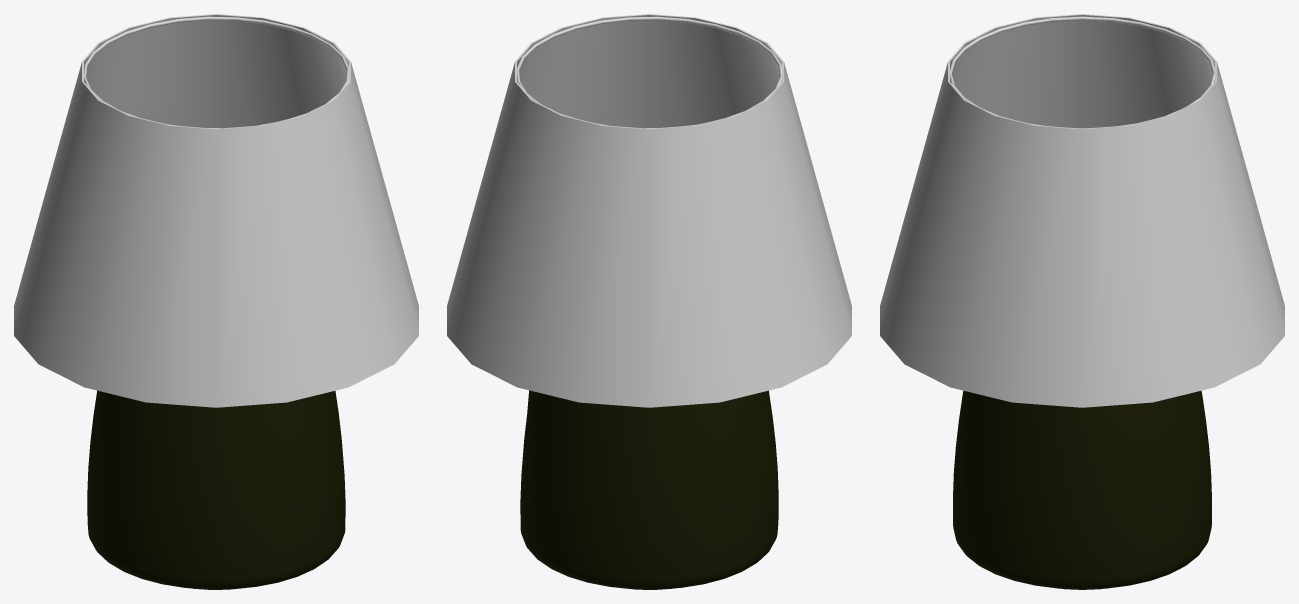
The model's file is IKEA-Diabas_Table_Lamp-3D.DAE.
3 renders of one model, left to right at view 1: azimuth 30°, elevation 25°; view 2: azimuth 150°, elevation 25°; view 3: azimuth 270°, elevation 25°, orthographic.
Visible parts, largest first — view 1: Object01; view 2: Object01; view 3: Object01.
Part boxes in pixels (x1=…): Object01: x1=14, y1=14, x2=418, y2=589; Object01: x1=447, y1=14, x2=851, y2=589; Object01: x1=880, y1=14, x2=1284, y2=589.
Size of the model in its own units: 364 by 470 by 359.
